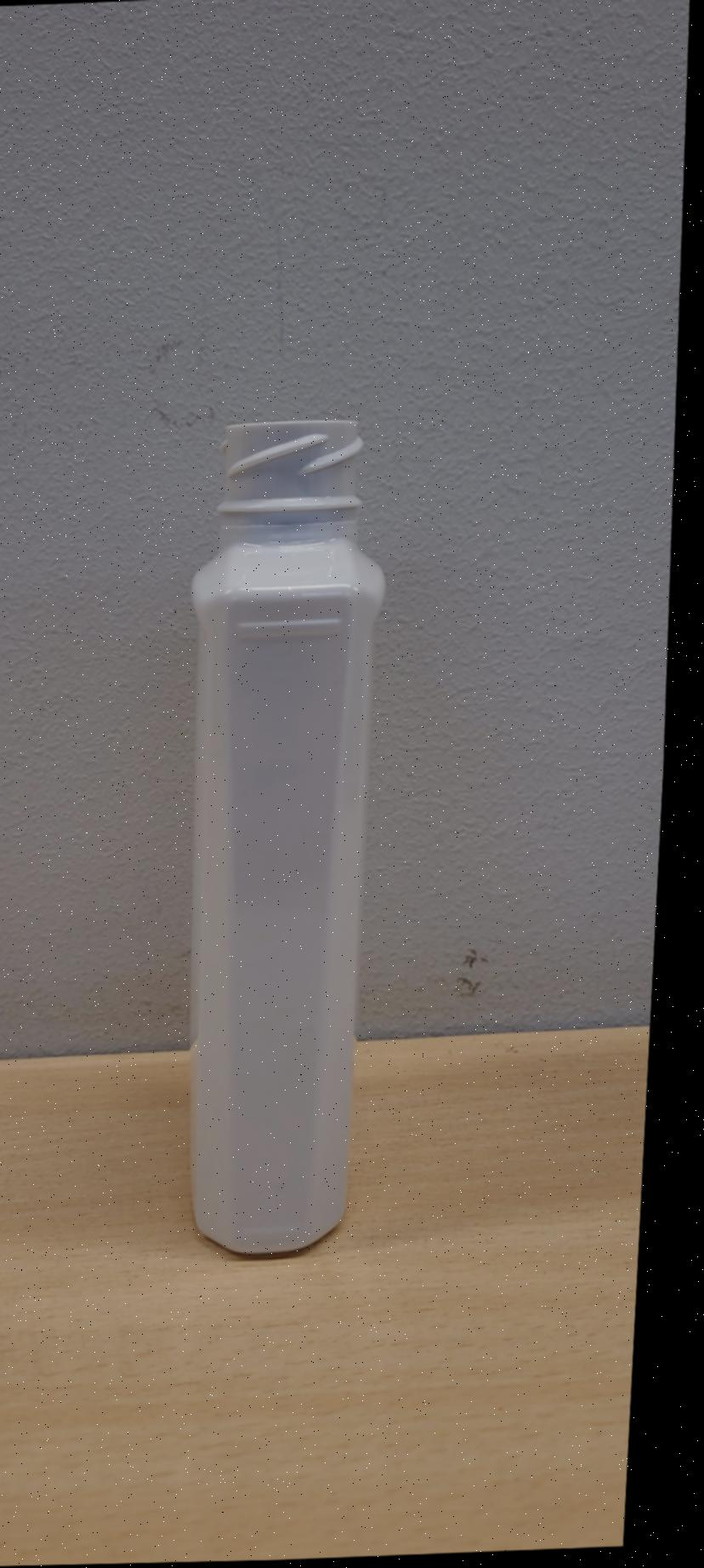bottle: (190, 418, 385, 1256)
